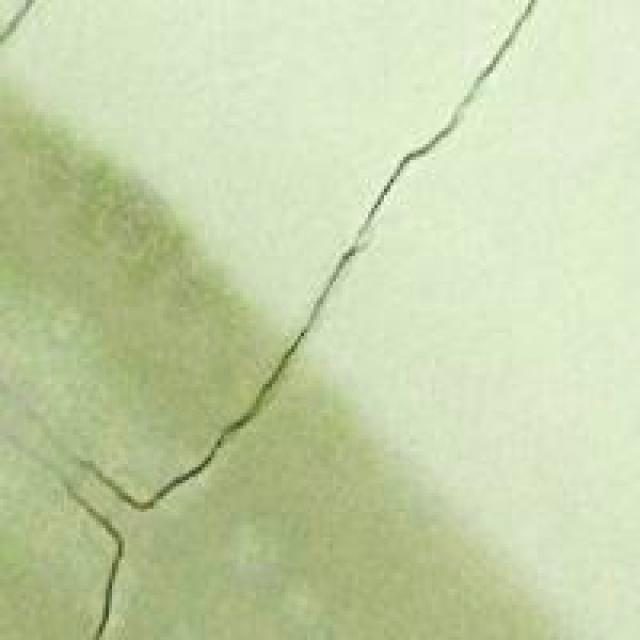crack: (58, 0, 574, 640)
